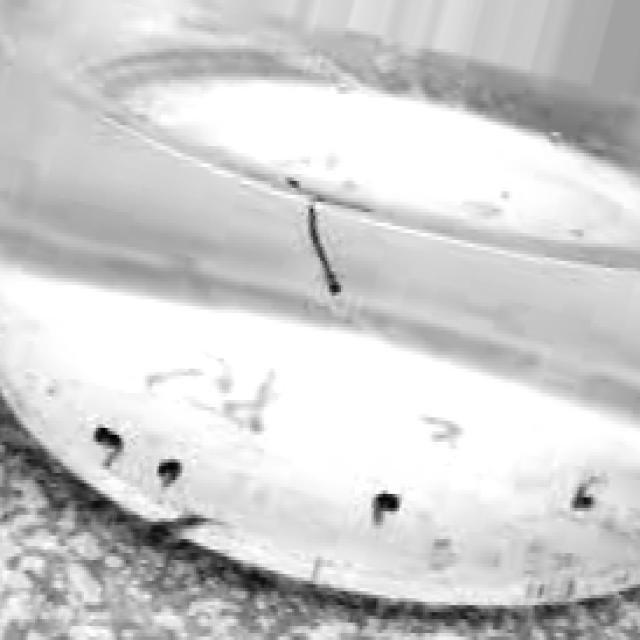larvas: (299, 208, 339, 298), (152, 510, 212, 537), (222, 394, 262, 431), (141, 363, 206, 384), (249, 369, 282, 408), (427, 414, 465, 446), (96, 425, 121, 467), (573, 478, 602, 514), (374, 490, 401, 521), (156, 457, 183, 487)
